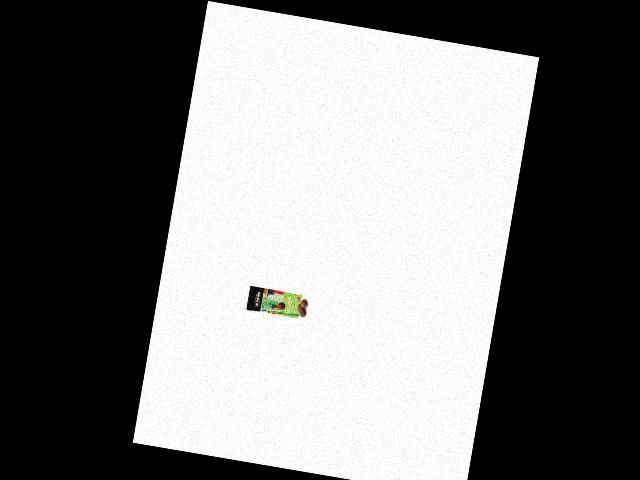chocolate: (243, 281, 304, 324)
